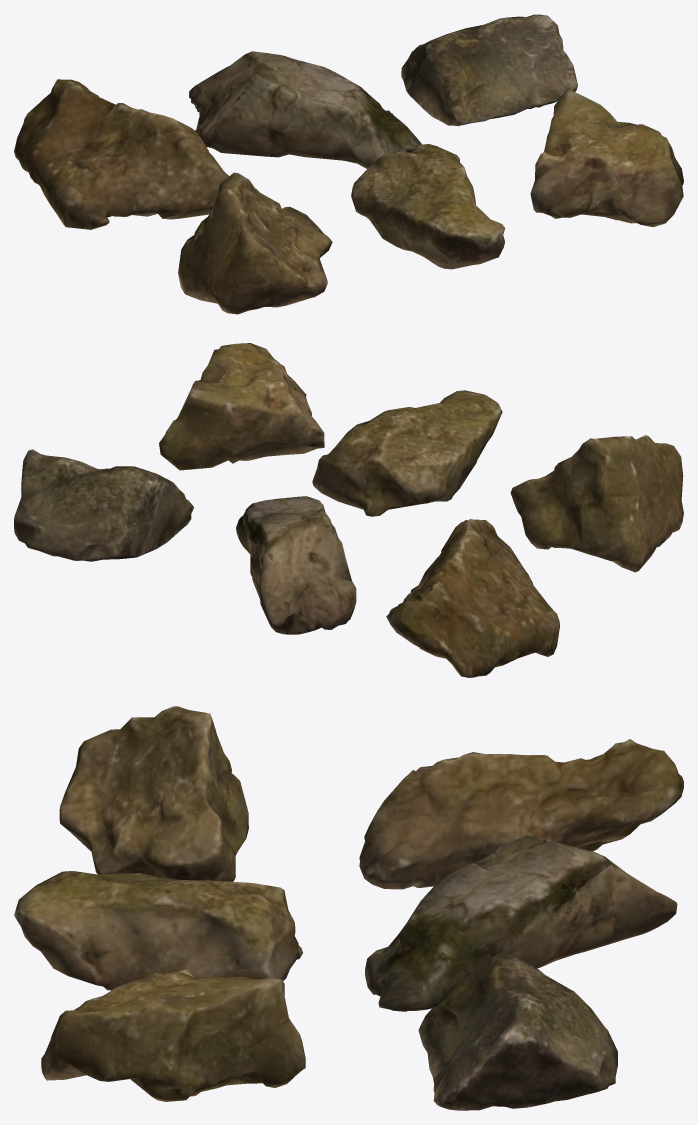
The model's file is rocher_mousse_lod0.glb.
3 views of the same model, one above another, from view 1: azimuth 30°, elevation 25°; view 2: azimuth 150°, elevation 25°; view 3: azimuth 270°, elevation 25° (orthographic). The views are drawn at different scales.
Visible parts, largest first — view 1: rock_moss_set_01_rock01; view 2: rock_moss_set_01_rock01; view 3: rock_moss_set_01_rock01.
Part boxes in pixels (left/top/right/bottom): rock_moss_set_01_rock01: left=14, top=14, right=683, bottom=314; rock_moss_set_01_rock01: left=14, top=343, right=683, bottom=677; rock_moss_set_01_rock01: left=14, top=706, right=683, bottom=1110.
Size of the model in its own units: 8 by 1.76 by 6.94.
Materials: 1 (1 with a texture image).
